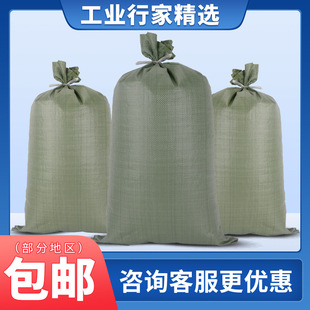Parcel: (107, 33, 224, 246), (14, 61, 110, 234), (212, 63, 295, 236)
